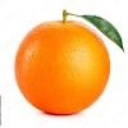orange: (13, 9, 124, 118)
